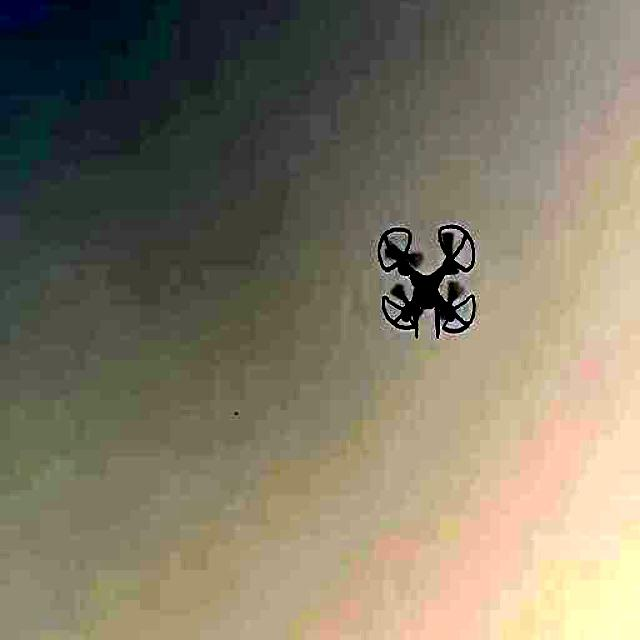bird: (365, 202, 481, 360)
